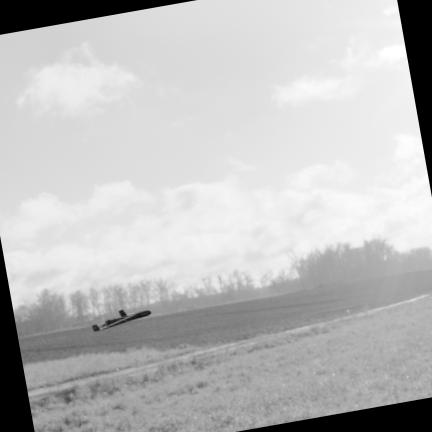Shahed: (93, 309, 151, 331)
